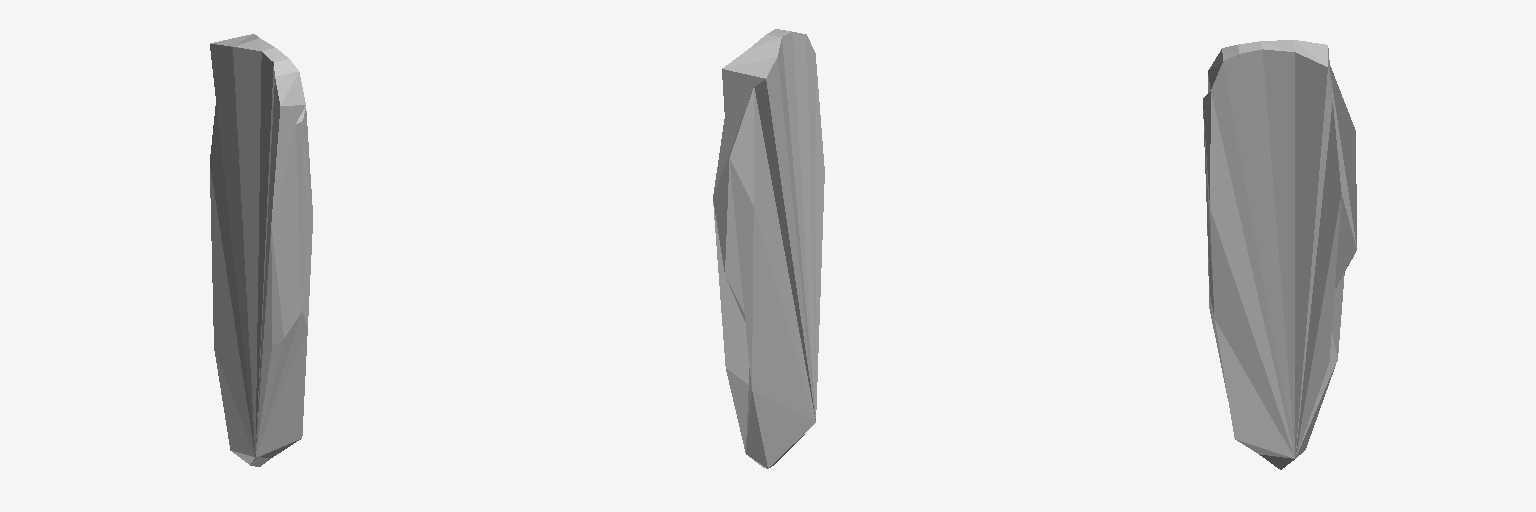
The model's file is GrassPiece.obj.
3 renders of one model, left to right at view 1: azimuth 30°, elevation 25°; view 2: azimuth 150°, elevation 25°; view 3: azimuth 270°, elevation 25°, orthographic.
Parts seen in each view (by area): view 1: Cube; view 2: Cube; view 3: Cube.
Part boxes in pixels (x1,y1,x2,y2): Cube: (210,34,312,466); Cube: (713,29,824,468); Cube: (1203,40,1356,469).
Size of the model in its own units: 0.0321 by 0.2685 by 0.0884.